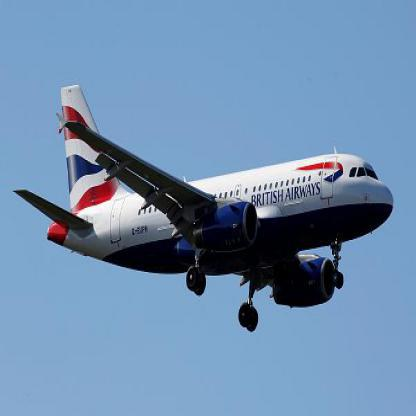CIV_Plane: (10, 75, 395, 350)
